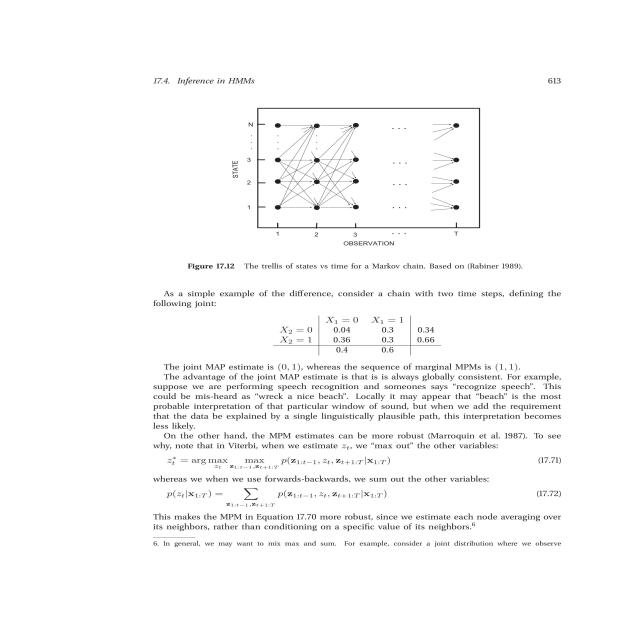diagram: (120, 103, 543, 275)
